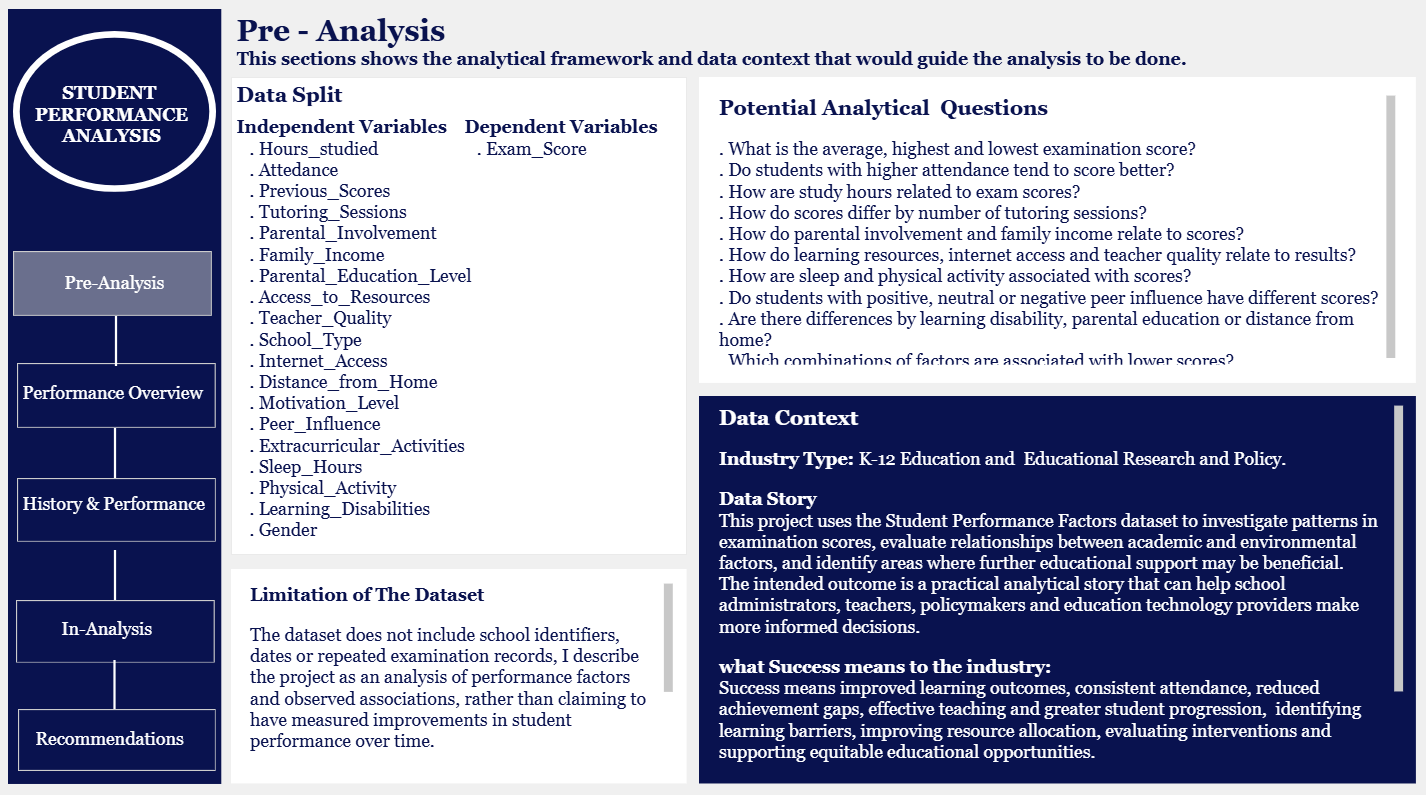

The page's visual inventory and layout, read from the dashboard file:
{"tool":"powerbi","page":{"name":"Pre-Analysis","canvas":[1280,720],"ordinal":0},"visuals":[{"type":"textbox","box":[179,87,386,465],"z":0},{"type":"textbox","box":[0,0,1280,720],"z":1000},{"type":"textbox","box":[9,13,191,694],"z":2000},{"type":"textbox","box":[209,13,877,61],"z":3000},{"type":"textbox","box":[209,74,408,428],"z":4000},{"type":"textbox","box":[209,74,129,31],"z":5000},{"type":"textbox","box":[209,105,229,397],"z":6000},{"type":"textbox","box":[413,105,196,50],"z":7000},{"type":"textbox","box":[628,360,642,347],"z":8000},{"type":"textbox","box":[640,364,623,340],"z":9000},{"type":"textbox","box":[628,74,642,274],"z":10000},{"type":"textbox","box":[640,86,616,251],"z":11000},{"type":"textbox","box":[209,515,408,192],"z":12000},{"type":"textbox","box":[220,523,389,173],"z":13000},{"type":"textbox","box":[24.2,74.3,154.9,95.8],"z":14000},{"type":"shape","box":[13.4,33.1,181.8,144.2],"z":15000},{"type":"shape","box":[17,330.4,178,58.2],"z":16000},{"type":"textbox","box":[17,343,177.3,33.1],"z":17000},{"type":"shape","box":[13.4,230.1,178.2,58.2],"z":18000},{"type":"textbox","box":[54.6,244.5,101.2,29.6],"z":19000},{"type":"shape","box":[95.8,288.4,19.7,44.8],"z":20000},{"type":"shape","box":[17,433.4,178.2,57.3],"z":21000},{"type":"shape","box":[94.9,388.7,19.7,44.8],"z":22000},{"type":"textbox","box":[17,442.4,185.4,38.5],"z":23000},{"type":"shape","box":[16.1,542.7,178,56.4],"z":24000},{"type":"shape","box":[94.9,497.9,19.7,44.8],"z":25000},{"type":"textbox","box":[51.9,554.3,105.7,33.1],"z":26000},{"type":"shape","box":[17.9,640.3,177.3,55.5],"z":27000},{"type":"shape","box":[94.9,596.4,18.8,43.9],"z":28000},{"type":"textbox","box":[309,458.5,152.2,32.2],"z":29000},{"type":"textbox","box":[28.7,652.8,154.9,29.6],"z":30000}]}

Visuals, with their boxes in screenshot pixels (x1, y1, x2, y2), scaled from the page's 1280x720 canvas onto the 1426x795 screenshot:
textbox: Rect(199, 96, 629, 610)
textbox: Rect(0, 0, 1425, 794)
textbox: Rect(10, 14, 223, 781)
textbox: Rect(233, 14, 1210, 82)
textbox: Rect(233, 82, 687, 554)
textbox: Rect(233, 82, 377, 116)
textbox: Rect(233, 116, 488, 554)
textbox: Rect(460, 116, 678, 171)
textbox: Rect(700, 398, 1415, 781)
textbox: Rect(713, 402, 1407, 777)
textbox: Rect(700, 82, 1415, 384)
textbox: Rect(713, 95, 1399, 372)
textbox: Rect(233, 569, 687, 781)
textbox: Rect(245, 577, 678, 768)
textbox: Rect(27, 82, 200, 188)
shape: Rect(15, 37, 217, 196)
shape: Rect(19, 365, 217, 429)
textbox: Rect(19, 379, 216, 415)
shape: Rect(15, 254, 213, 318)
textbox: Rect(61, 270, 174, 303)
shape: Rect(107, 318, 129, 368)
shape: Rect(19, 479, 217, 542)
shape: Rect(106, 429, 128, 479)
textbox: Rect(19, 488, 225, 531)
shape: Rect(18, 599, 216, 662)
shape: Rect(106, 550, 128, 599)
textbox: Rect(58, 612, 176, 649)
shape: Rect(20, 707, 217, 768)
shape: Rect(106, 659, 127, 707)
textbox: Rect(344, 506, 514, 542)
textbox: Rect(32, 721, 205, 753)
